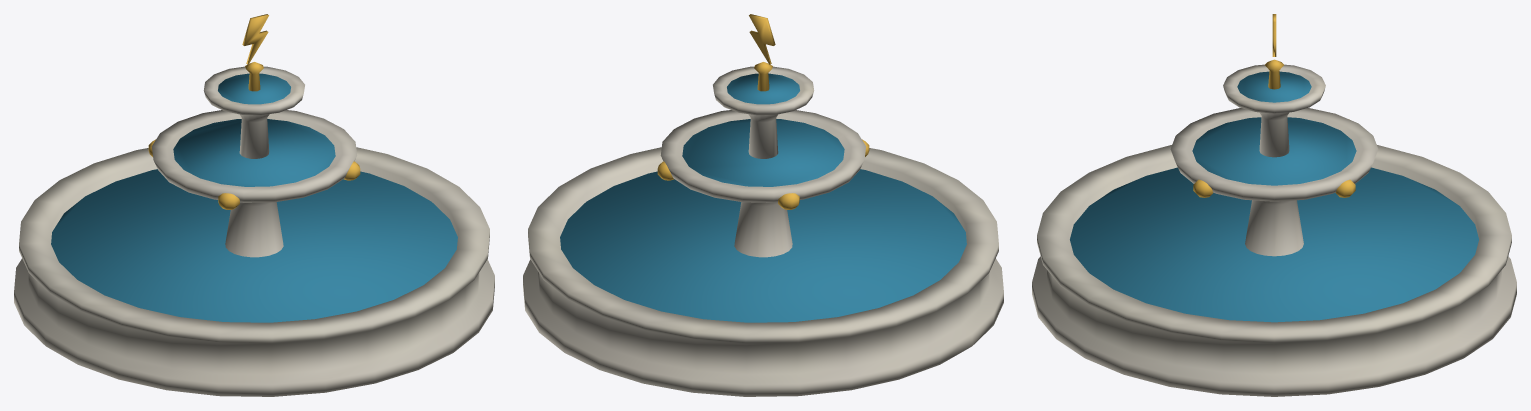
The model's file is civic_fountain-plaza.glb.
The picture shows the model from 3 angles, left to right: view 1: azimuth 30°, elevation 25°; view 2: azimuth 150°, elevation 25°; view 3: azimuth 270°, elevation 25°; orthographic projection.
Visible parts, largest first — view 1: water.003, step, marble, gold; view 2: water.003, step, marble, gold; view 3: water.003, step, marble, gold.
Boxes of the visible parts, x1,y1,x2,y2 form: water.003: (51, 73, 457, 322); step: (14, 147, 494, 396); marble: (151, 66, 357, 257); gold: (148, 14, 360, 209); water.003: (560, 73, 966, 322); step: (523, 147, 1003, 396); marble: (660, 66, 866, 257); gold: (657, 14, 869, 209); water.003: (1070, 71, 1478, 322); step: (1032, 145, 1516, 396); marble: (1170, 64, 1378, 256); gold: (1193, 14, 1355, 197).
Size of the model in its own units: 4.9 by 3.11 by 4.9.
